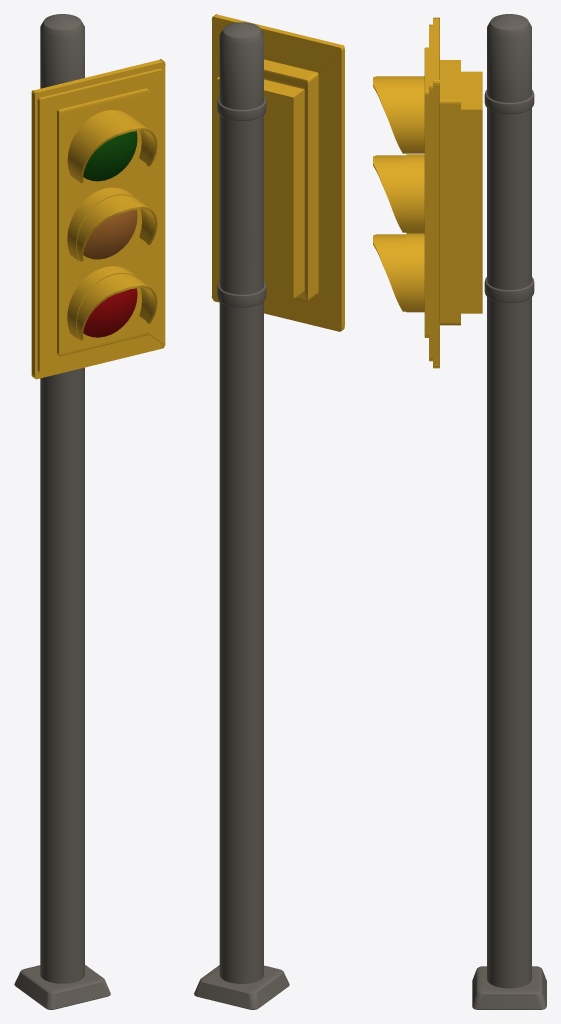
Rendered from traffic_lights1.fbx.
The picture shows the model from 3 angles, left to right: view 1: azimuth 30°, elevation 25°; view 2: azimuth 150°, elevation 25°; view 3: azimuth 270°, elevation 25°; orthographic projection.
Visible parts, largest first — view 1: Lights_straight; view 2: Lights_straight; view 3: Lights_straight.
Boxes of the visible parts, box(x1,y1,x2,y2) form: Lights_straight: box(14, 14, 165, 1009); Lights_straight: box(194, 14, 344, 1009); Lights_straight: box(373, 14, 546, 1009).
Bounding box in the file's own units: 56.08 × 400 × 64.21.
